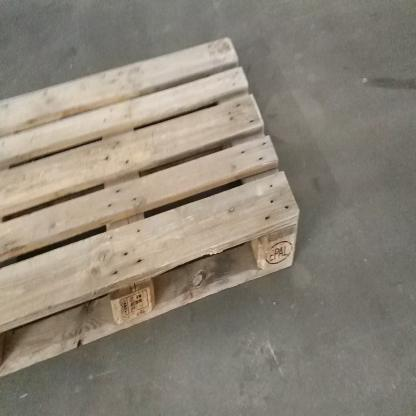BoxFace: (1, 33, 302, 382)
